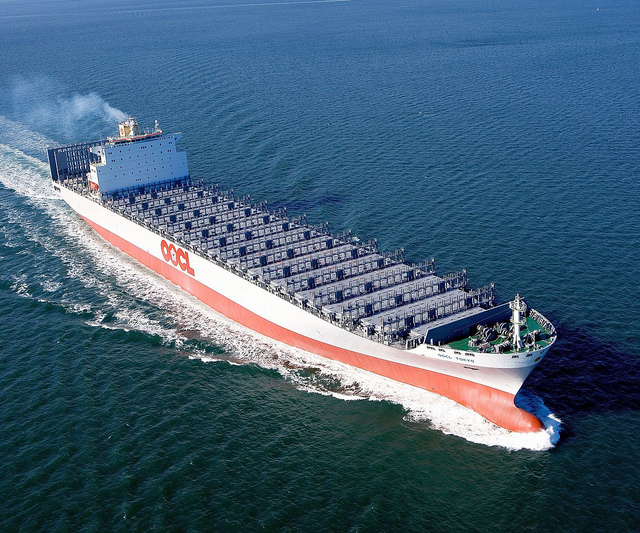container_ship: (44, 116, 554, 439)
